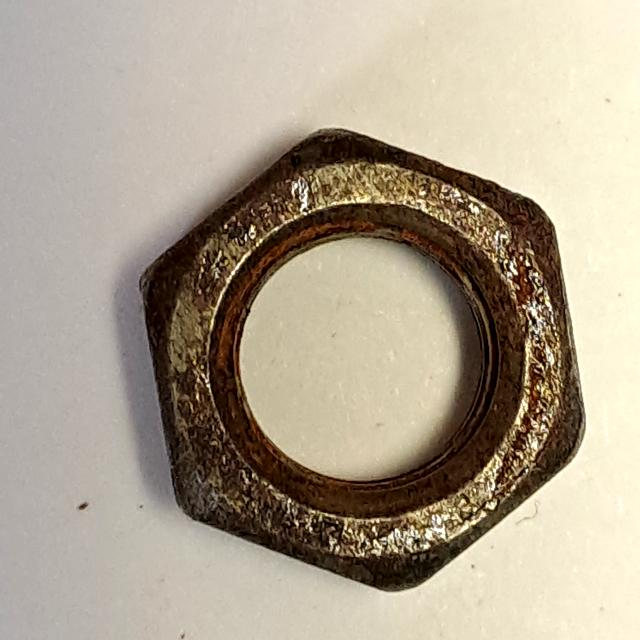Rust: (128, 119, 608, 606)
